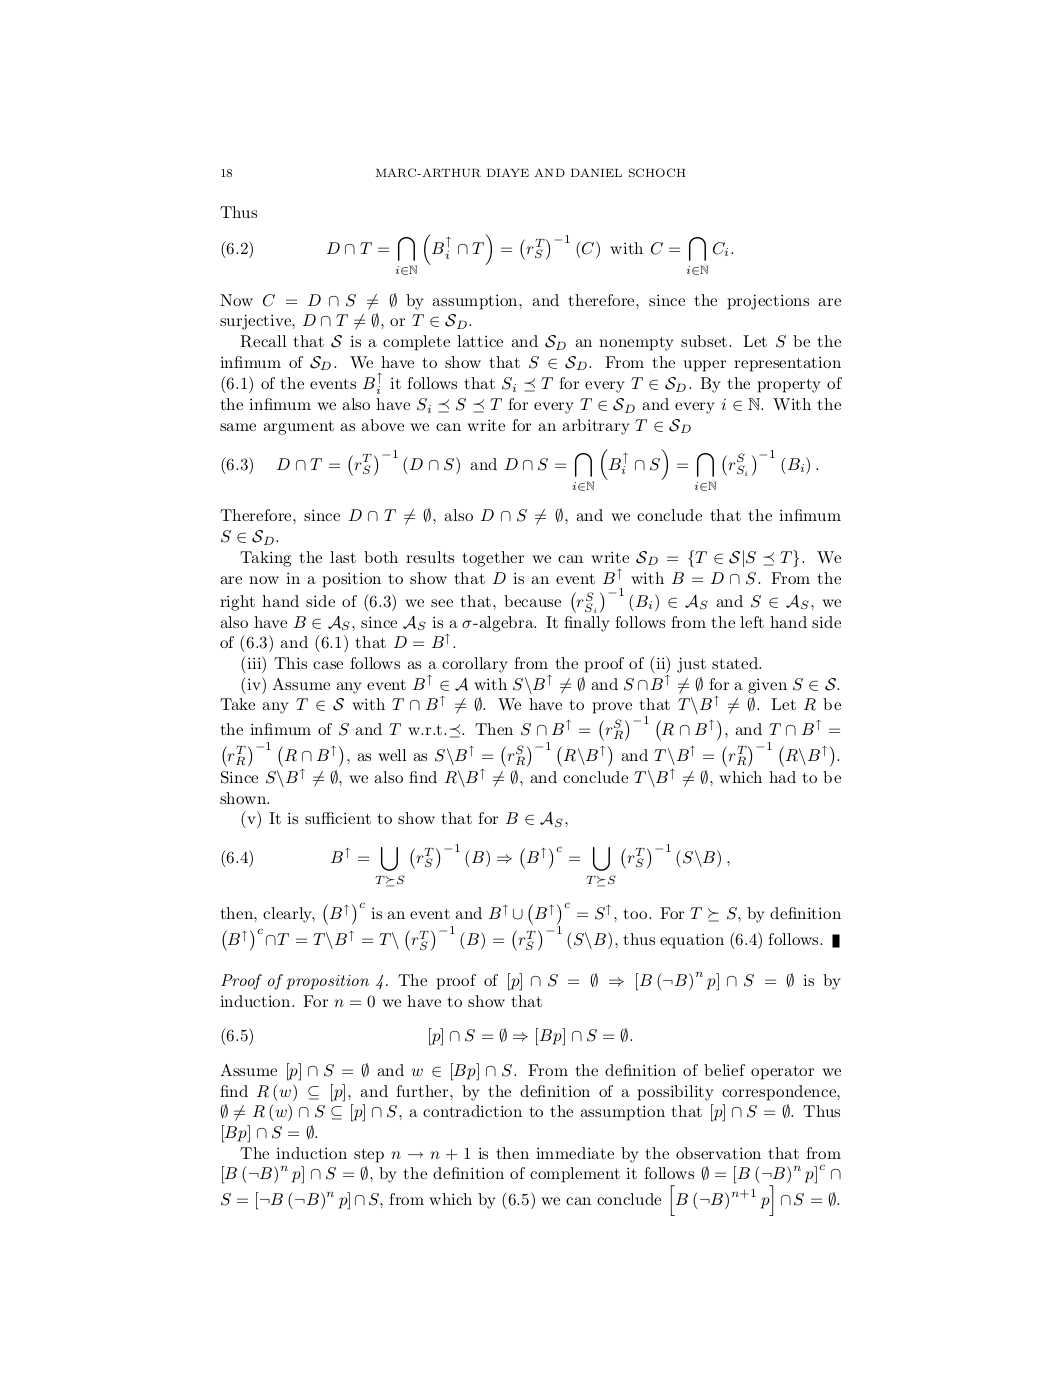formula: (221, 448, 818, 491), (221, 233, 733, 275), (221, 844, 729, 886), (221, 1028, 632, 1046)
